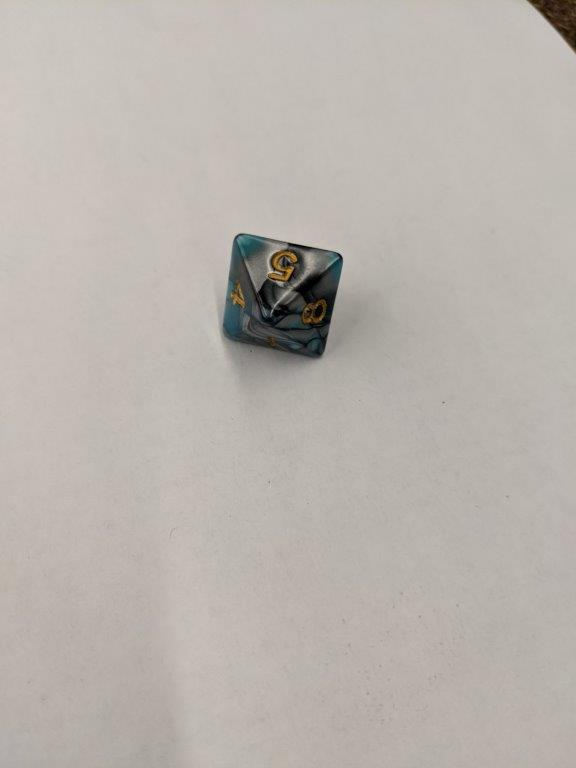d8-5: (217, 231, 346, 357)
